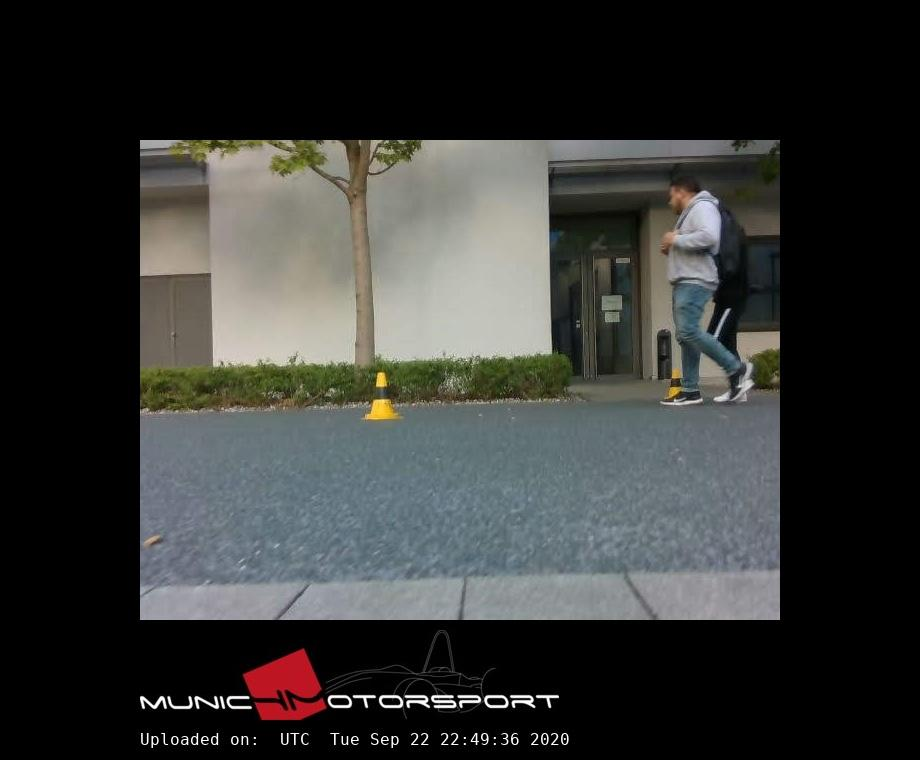yellow_cone: (365, 373, 400, 420), (665, 369, 681, 398)
